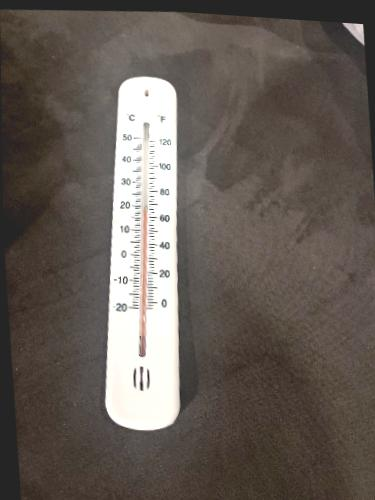thermo: (102, 74, 195, 425)
